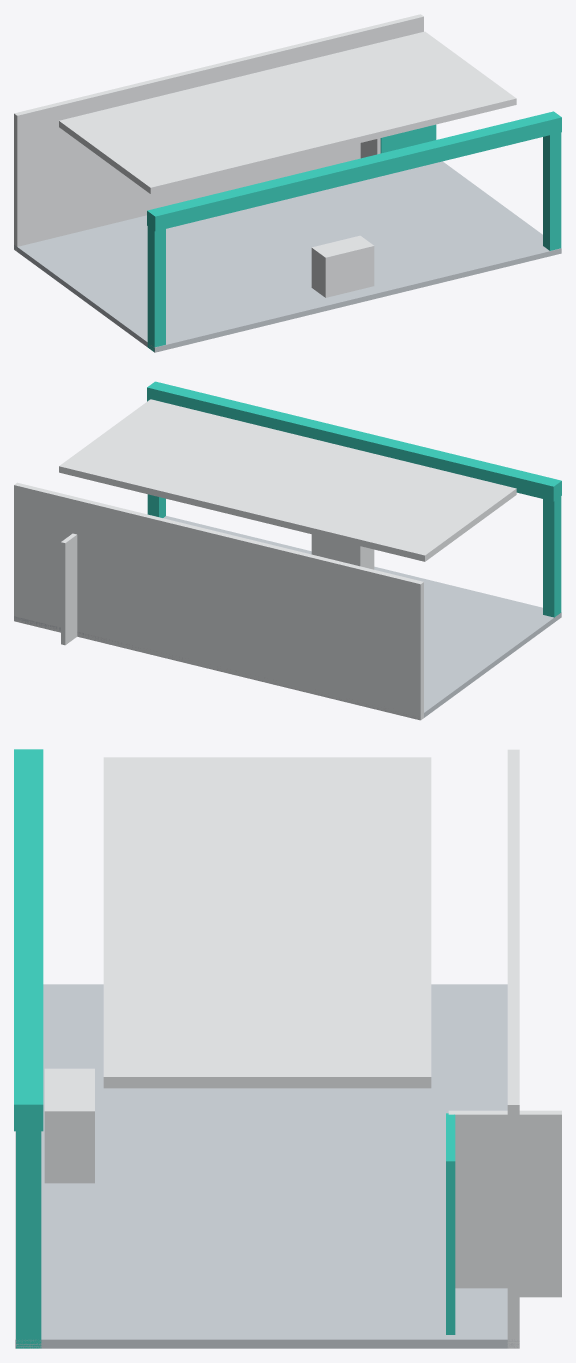
3 renders of one model, top to bottom at view 1: azimuth 30°, elevation 25°; view 2: azimuth 150°, elevation 25°; view 3: azimuth 270°, elevation 25°, orthographic. The views are drawn at different scales.
Parts seen in each view (by area): view 1: Exhibition Booth Concept; view 2: Exhibition Booth Concept; view 3: Exhibition Booth Concept.
Part boxes in pixels (box(x1,y1,x2,y2)): Exhibition Booth Concept: box(14, 14, 561, 352); Exhibition Booth Concept: box(14, 381, 561, 720); Exhibition Booth Concept: box(14, 749, 561, 1348).
Size of the model in its own units: 10 by 3.34 by 6.52.
